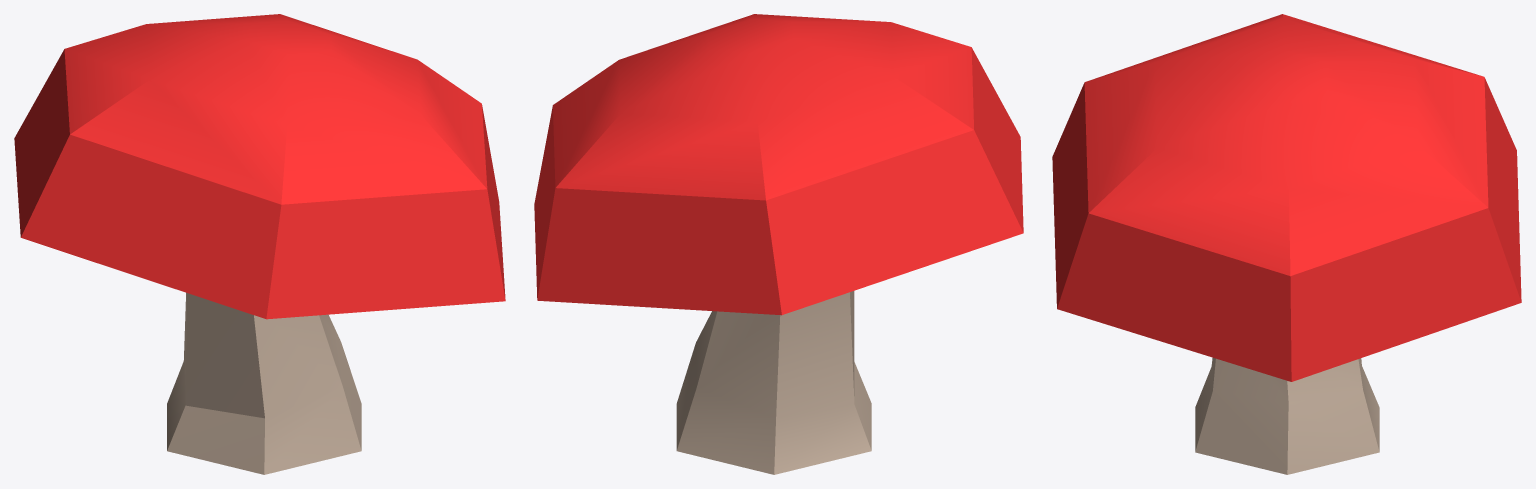
File: Mushroom_Red_05.fbx
The picture shows the model from 3 angles, left to right: view 1: azimuth 30°, elevation 25°; view 2: azimuth 150°, elevation 25°; view 3: azimuth 270°, elevation 25°; orthographic projection. The views are drawn at different scales.
Parts seen in each view (by area): view 1: Model; view 2: Model; view 3: Model.
Part boxes in pixels (x1=…): Model: x1=14, y1=14, x2=505, y2=474; Model: x1=534, y1=14, x2=1023, y2=474; Model: x1=1052, y1=14, x2=1521, y2=474.
Size of the model in its own units: 164 by 127 by 146.
